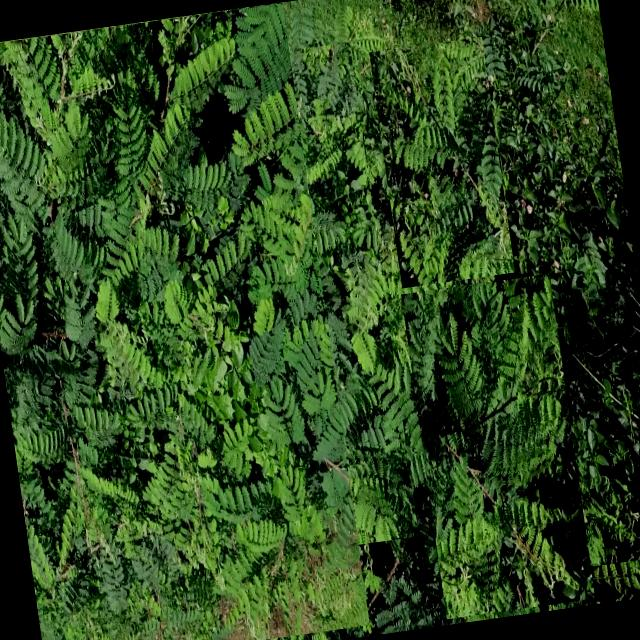Mysore-Thorn-Weed: (0, 3, 370, 640), (152, 42, 420, 564), (402, 274, 596, 620), (370, 37, 515, 288), (588, 556, 640, 605)
